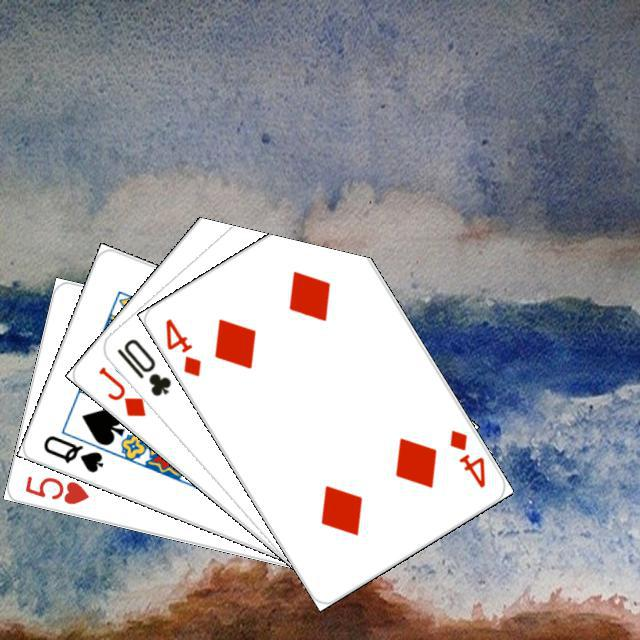10c: (112, 333, 173, 398)
4d: (444, 424, 488, 490), (160, 313, 203, 379)
5h: (20, 471, 91, 506)
Jd: (93, 361, 148, 419)
Qs: (38, 430, 105, 475)
